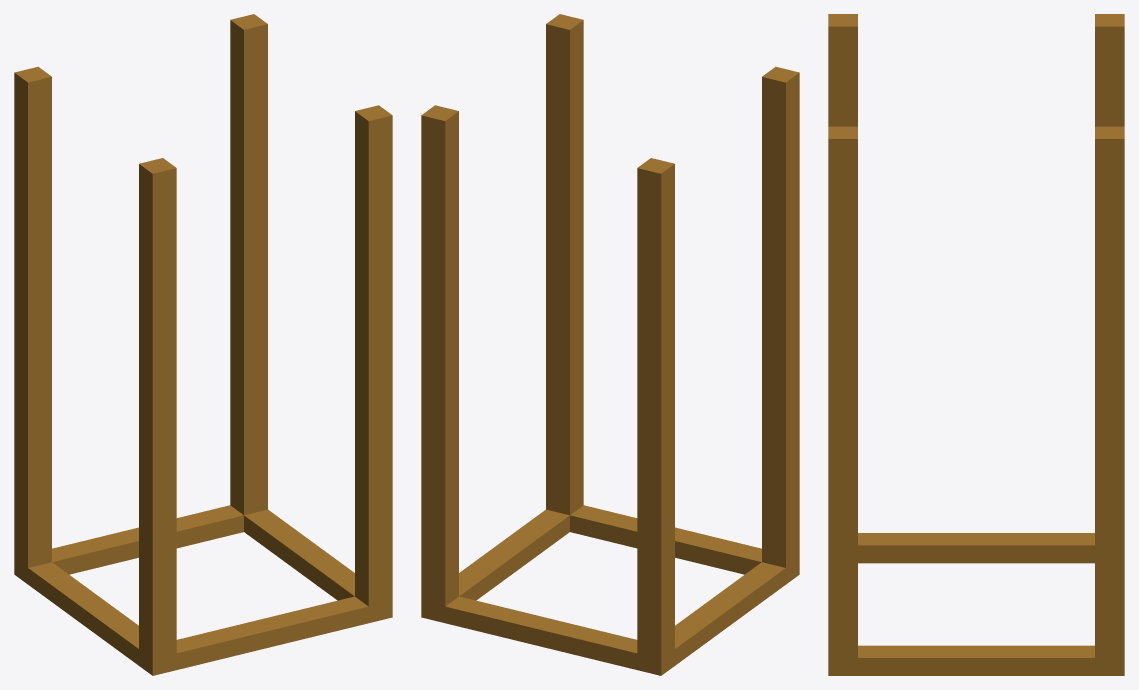
File: lift_3x3x3.fbx
3 views of the same model, side by side, from view 1: azimuth 30°, elevation 25°; view 2: azimuth 150°, elevation 25°; view 3: azimuth 270°, elevation 25° (orthographic). The views are drawn at different scales.
Parts seen in each view (by area): view 1: Plane.009; view 2: Plane.009; view 3: Plane.009.
Boxes of the visible parts, left/top/right/bottom form: Plane.009: left=14, top=14, right=392, bottom=675; Plane.009: left=421, top=14, right=799, bottom=675; Plane.009: left=828, top=14, right=1124, bottom=675.
Size of the model in its own units: 300 by 600 by 300.
